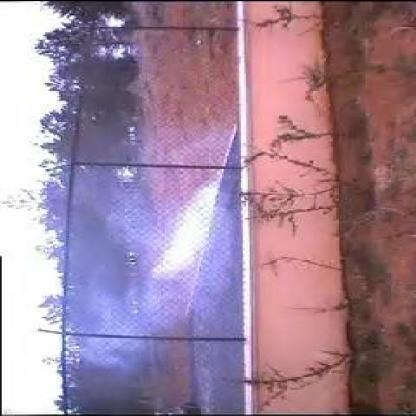-: (79, 165, 247, 335)
